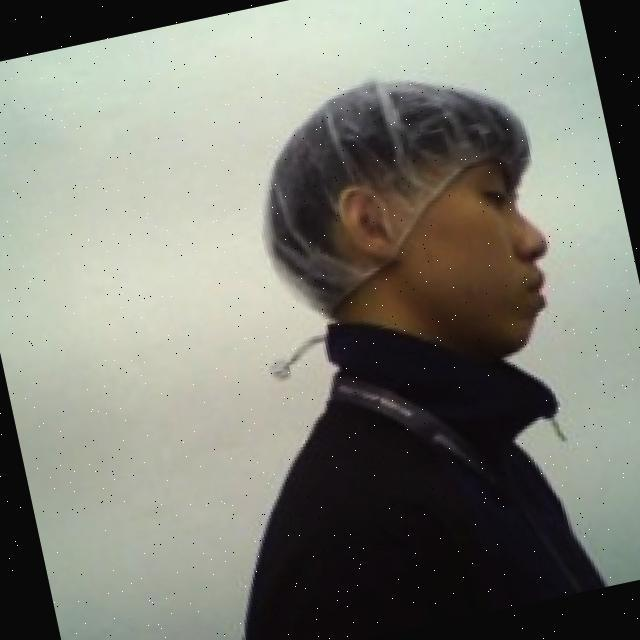gloves: (234, 48, 562, 330)
no_hairnet: (328, 147, 573, 392)
